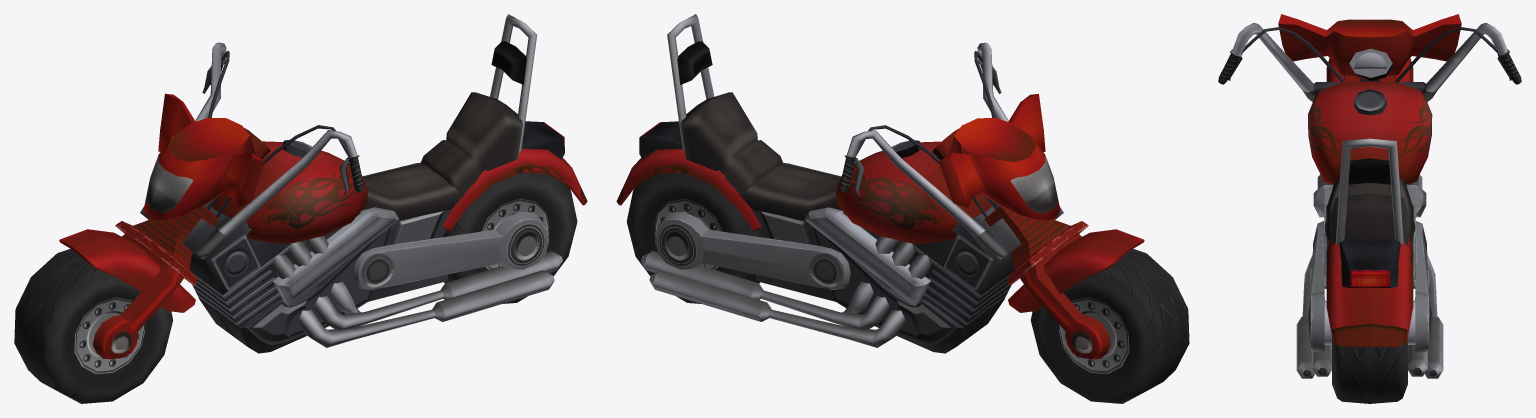
The model's file is Bike_2.fbx.
3 views of the same model, side by side, from view 1: azimuth 30°, elevation 25°; view 2: azimuth 150°, elevation 25°; view 3: azimuth 270°, elevation 25° (orthographic).
Parts seen in each view (by area): view 1: bike_body, handle, FrontWheel, BackWheel; view 2: bike_body, handle, FrontWheel, BackWheel; view 3: bike_body, handle, BackWheel.
Part boxes in pixels (x1,y1,x2,y2): bike_body: [189, 14, 587, 353]; handle: [59, 42, 363, 359]; FrontWheel: [14, 249, 172, 403]; BackWheel: [442, 172, 577, 303]; bike_body: [616, 14, 1013, 353]; handle: [840, 42, 1144, 359]; FrontWheel: [1030, 249, 1189, 403]; BackWheel: [626, 172, 761, 303]; bike_body: [1296, 81, 1443, 378]; handle: [1218, 14, 1521, 101]; BackWheel: [1332, 338, 1407, 403].
Bounding box in the file's own units: 5.93 × 2.78 × 2.83.
